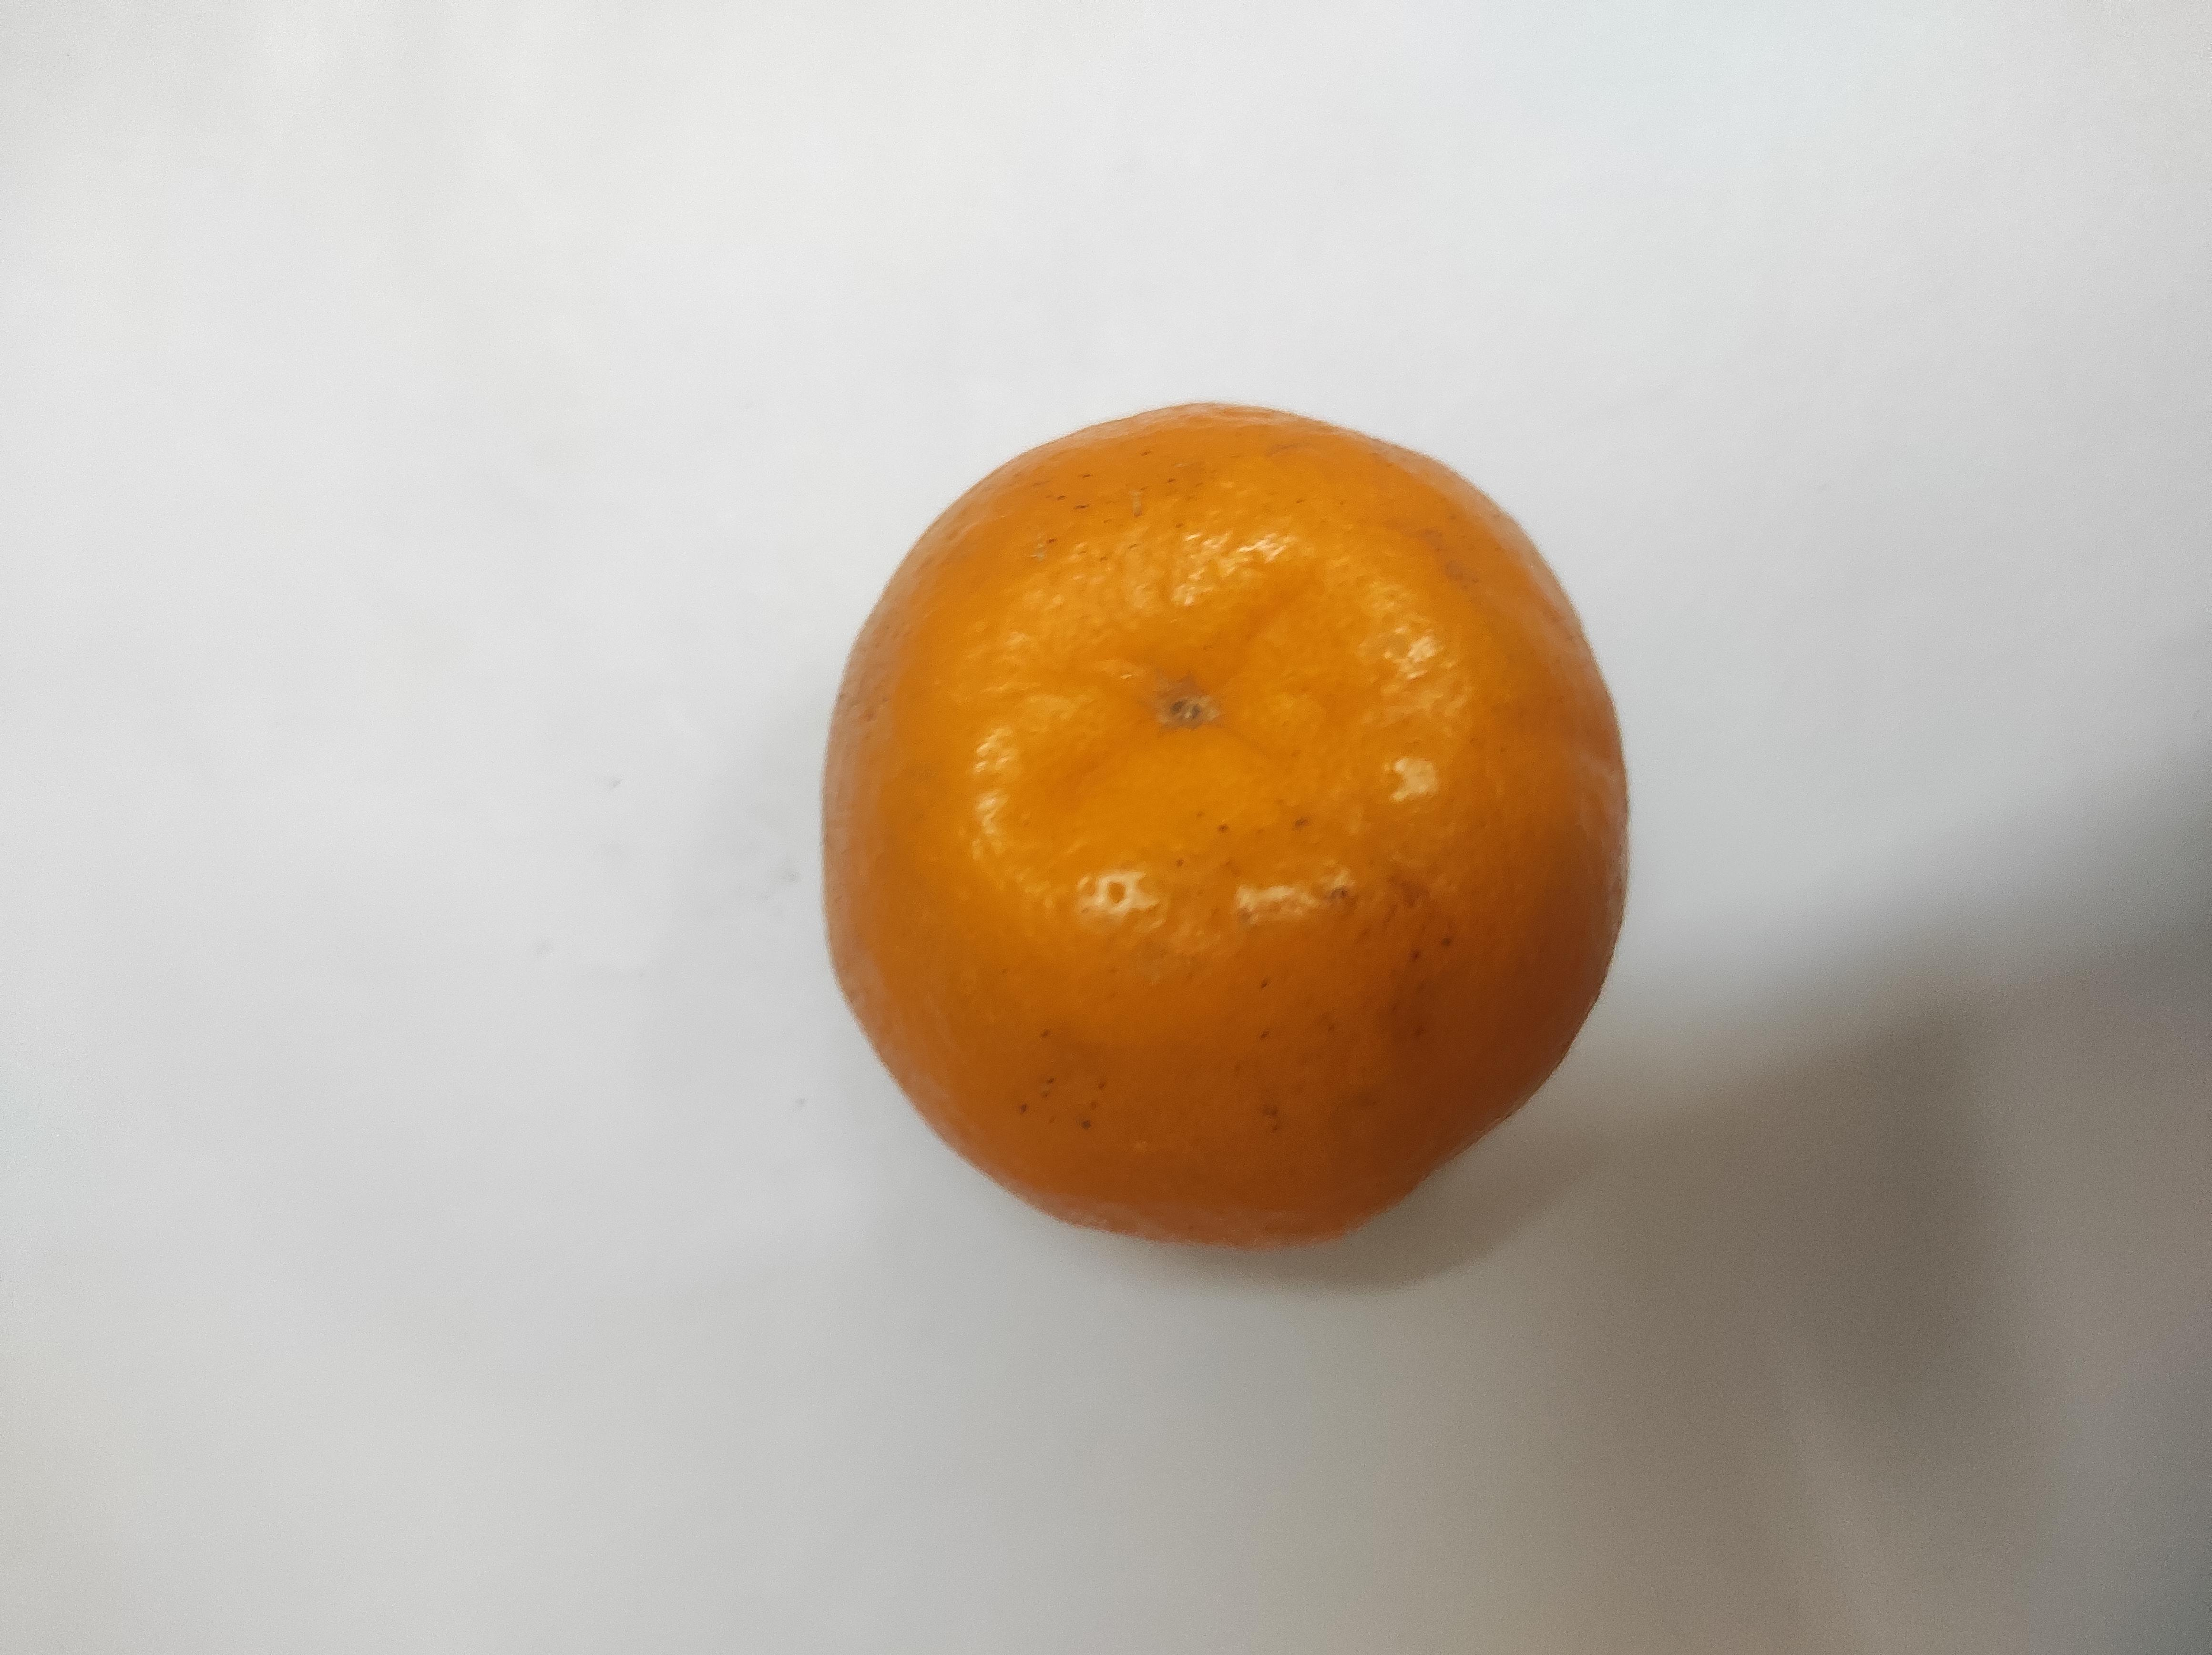Ripe: (816, 410, 1626, 1240)
